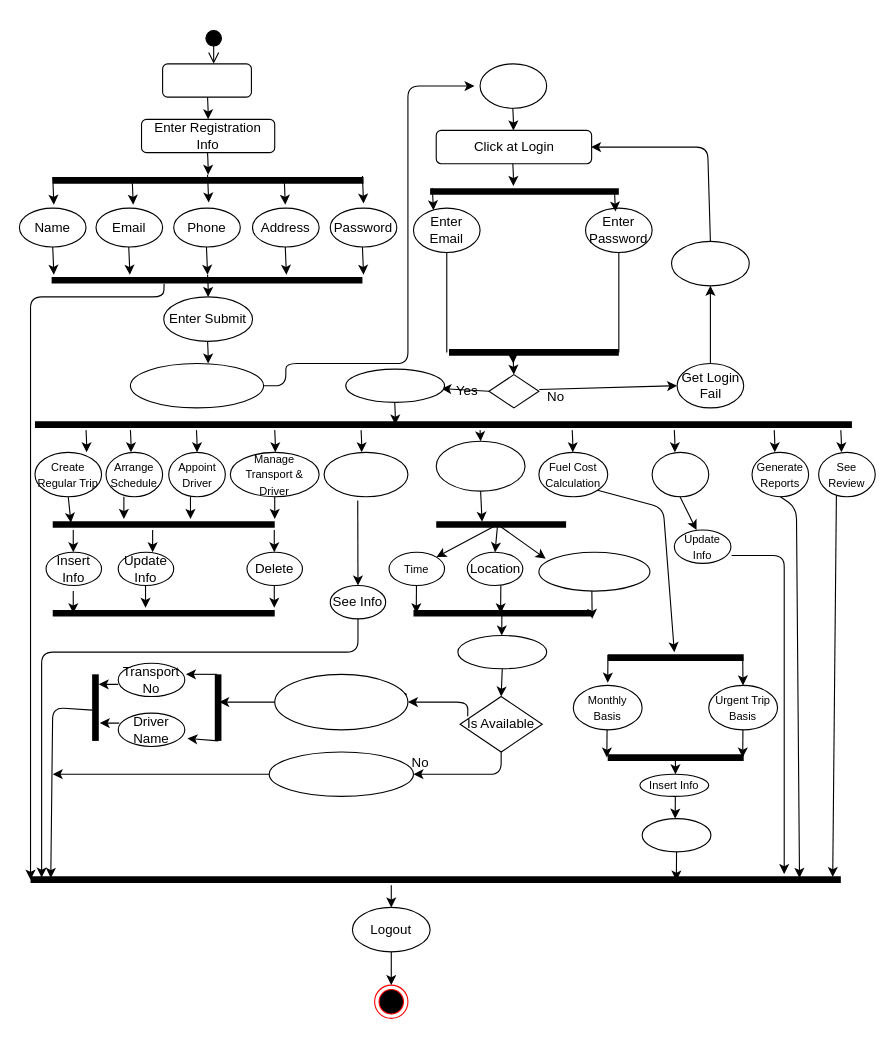
Image size: 895x1038. Some labels were removed from this diagram. The box of each missing label's shape, as (x1, y1, x2, y2) in pixels:
Check Driver Availability: (457, 634, 547, 669)
Get Massage Registration Done: (129, 362, 264, 408)
Go to admin Dashboard: (345, 368, 445, 402)
Invalid: (488, 374, 539, 408)
Login: (479, 63, 547, 108)
Office Employee List: (323, 451, 408, 497)
Registration: (162, 63, 251, 97)
Registration Again: (670, 240, 749, 286)
See Total Amount: (641, 818, 711, 852)
See Urgent Trip Request: (435, 440, 525, 491)
Send Massage Request Accepted: (274, 673, 408, 730)
Send Massage Request Not Accepted: (268, 751, 413, 796)
View Account: (651, 451, 709, 497)
View Previous Trip: (538, 551, 650, 591)
